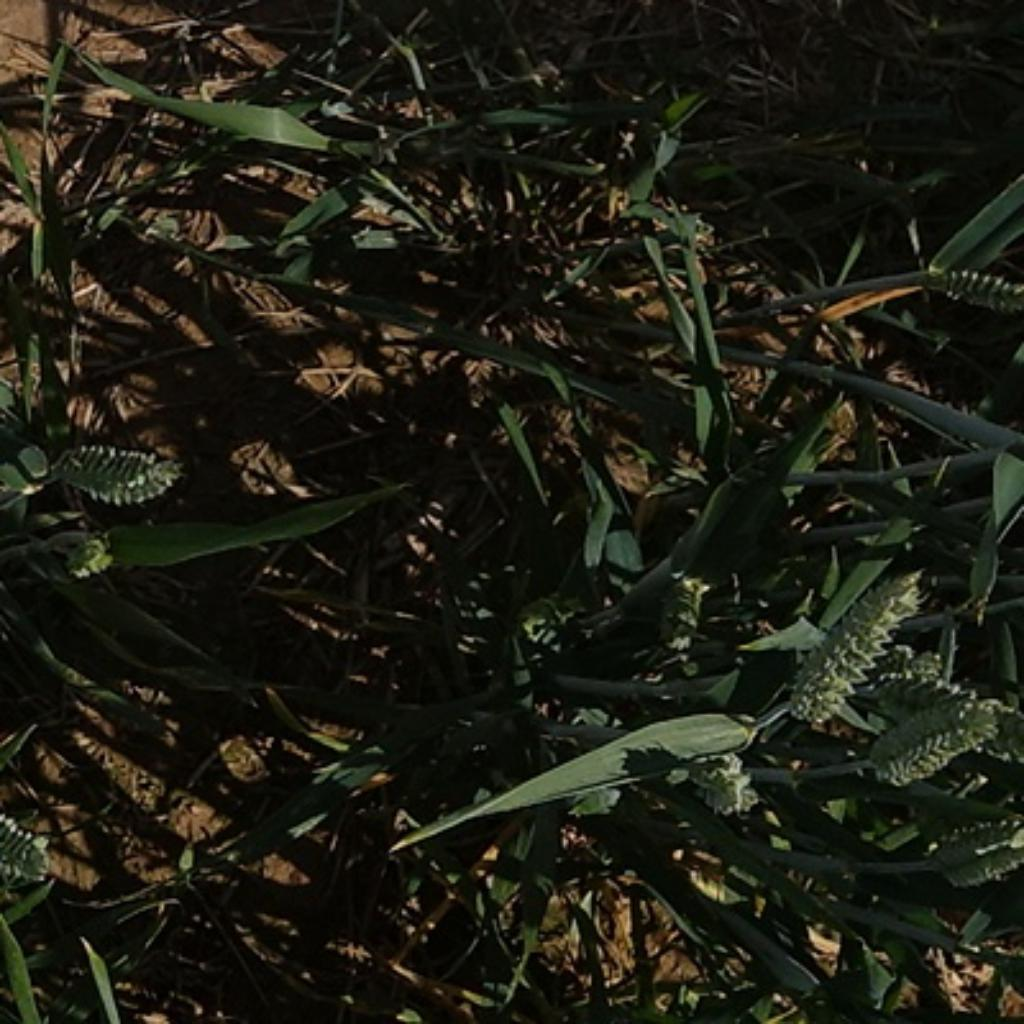0-0: (775, 560, 916, 719), (875, 691, 1011, 788), (40, 430, 189, 509), (684, 743, 777, 830), (935, 814, 1024, 888), (514, 593, 593, 668), (647, 568, 704, 668), (937, 259, 1024, 320), (0, 793, 54, 884), (49, 528, 116, 583)
